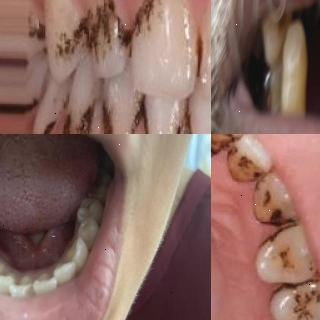cavities: (276, 4, 288, 40)
maligned: (32, 270, 59, 300), (9, 276, 36, 302), (73, 194, 101, 218)
stains: (254, 223, 304, 280), (248, 175, 292, 223), (263, 281, 319, 317), (227, 135, 264, 181), (132, 0, 166, 46), (55, 18, 92, 56), (98, 0, 121, 58), (191, 27, 211, 77), (18, 11, 44, 49), (61, 106, 93, 134), (211, 134, 248, 156), (130, 96, 149, 125), (105, 95, 117, 134), (178, 105, 192, 134), (37, 120, 59, 134)
